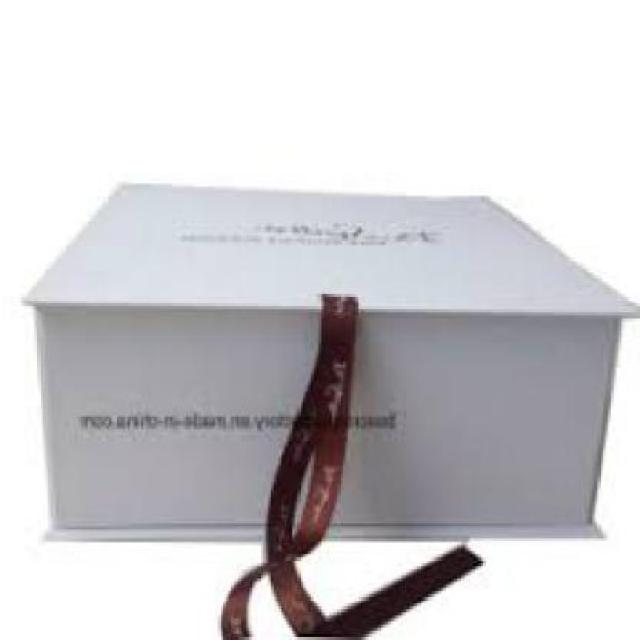CARDBOARD: (27, 181, 639, 536)
